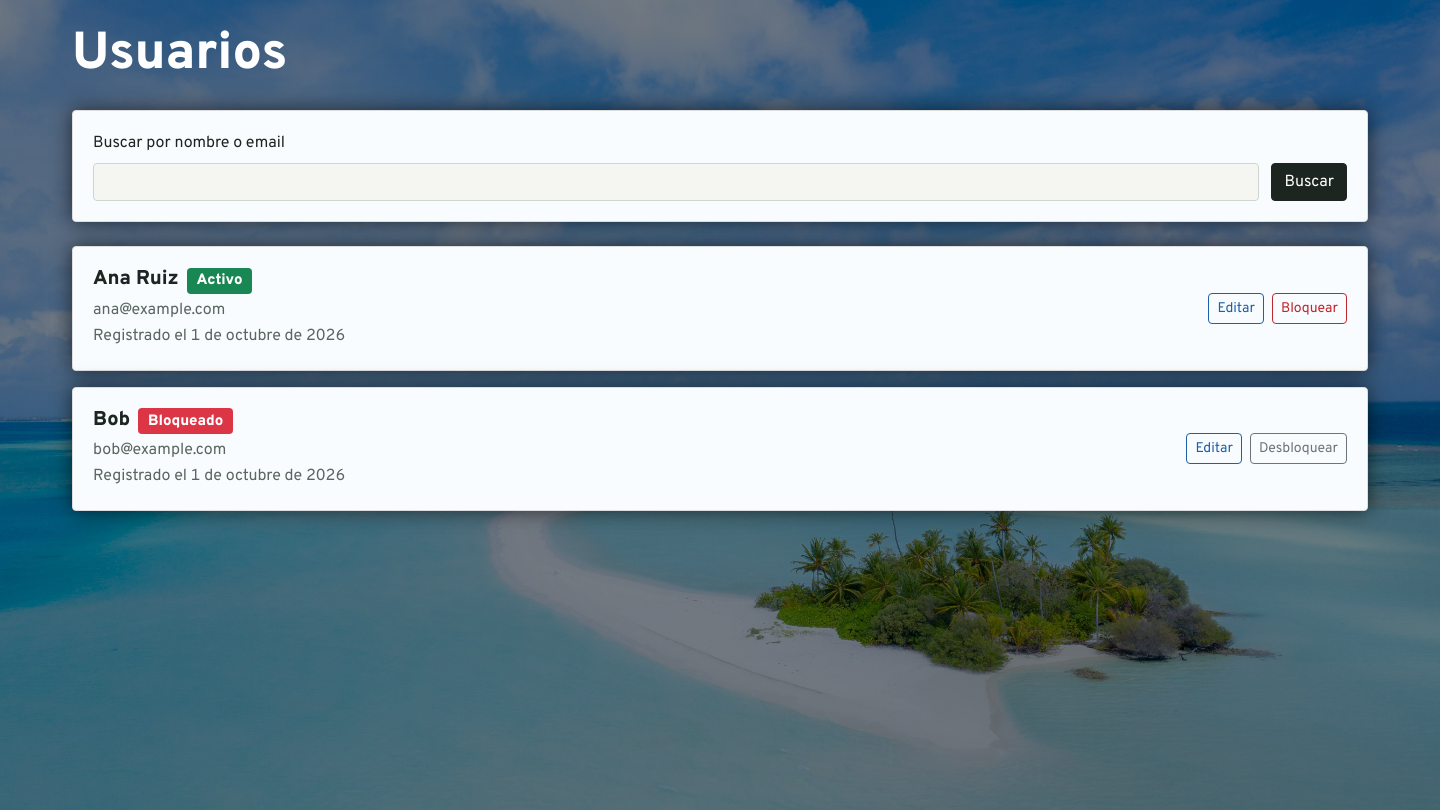
Scenario: B7 AdminUsersPage list and search › searching asks for the first page of the text and replaces the list
The width and height of the screenshot is (1440, 810).
Expected: the heading "Ana Ruiz Activo" is shown, [93, 266, 252, 294]
Type "  bob " into the search field labelled "Buscar por nombre o email" at (676, 182), box [93, 163, 1260, 201]
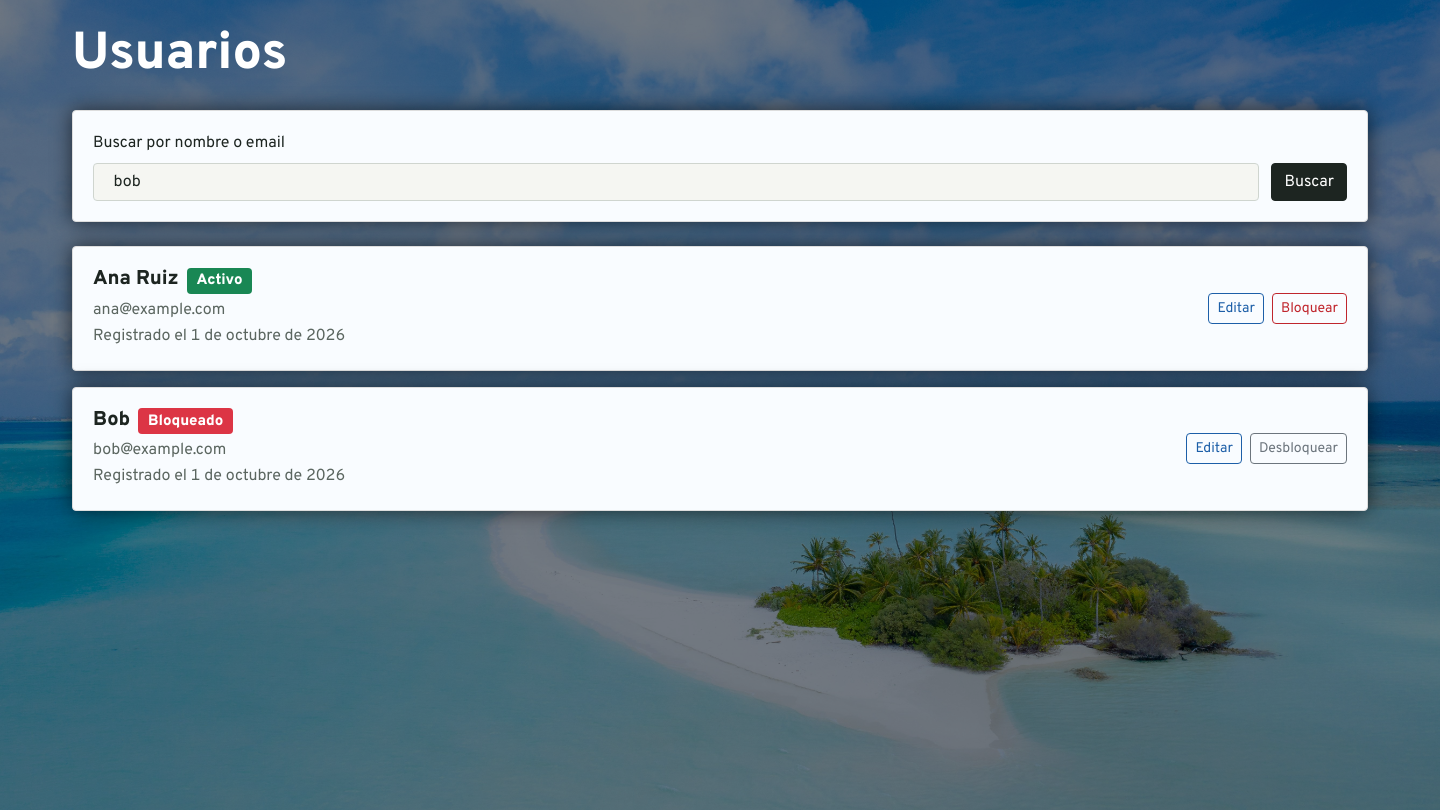
Click the button "Buscar" at (1309, 182), box [1272, 163, 1347, 201]
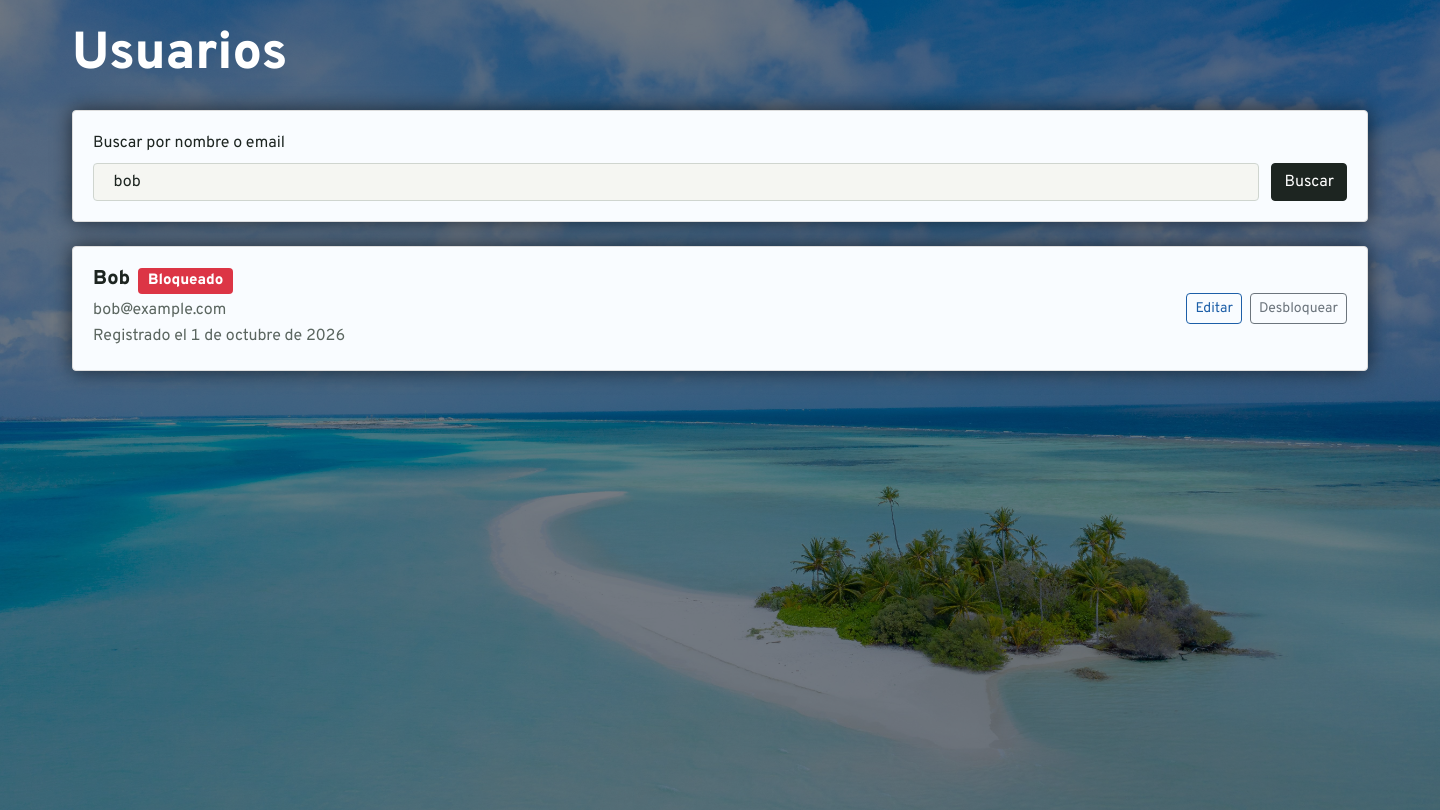
Expected: the heading "Bob Bloqueado" is shown, [93, 266, 233, 294]
Expected: the heading "Ana Ruiz" is gone
